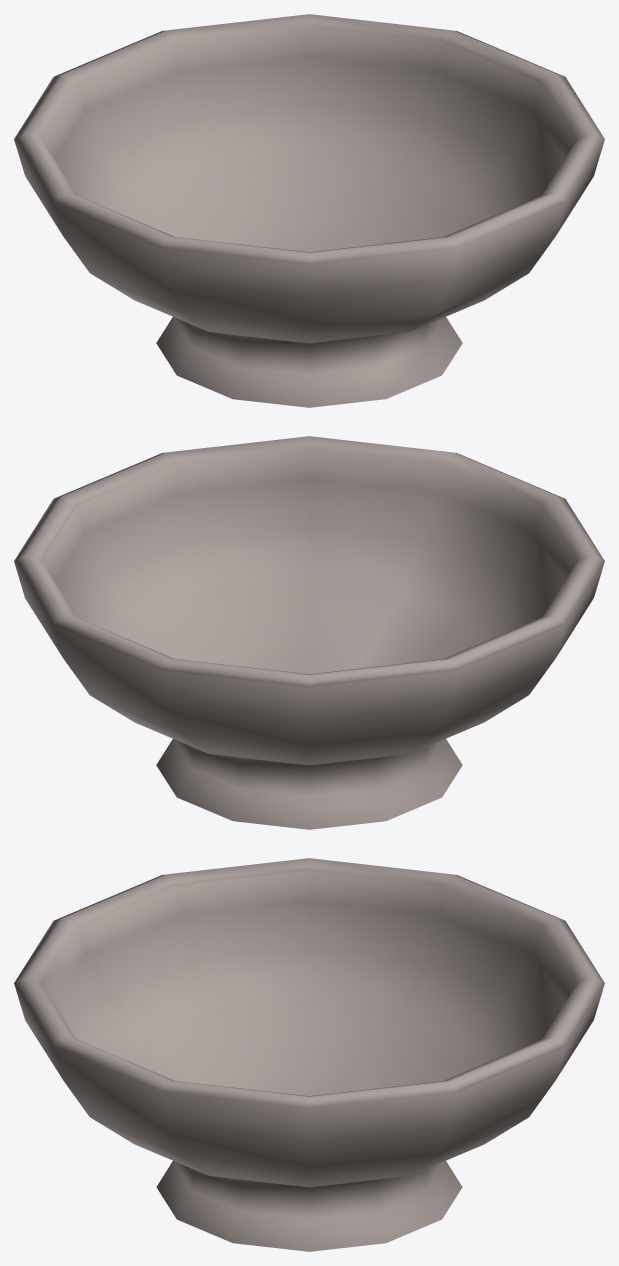
Rendered from frl_apartment_bowl_07.glb.
The picture shows the model from 3 angles, top to bottom: view 1: azimuth 30°, elevation 25°; view 2: azimuth 150°, elevation 25°; view 3: azimuth 270°, elevation 25°; orthographic projection.
Visible parts, largest first — view 1: frl_apartment_bowl_07; view 2: frl_apartment_bowl_07; view 3: frl_apartment_bowl_07.
Part boxes in pixels (<box>): frl_apartment_bowl_07: <box>14,14,604,407</box>; frl_apartment_bowl_07: <box>14,436,604,829</box>; frl_apartment_bowl_07: <box>14,858,604,1251</box>.
Size of the model in its own units: 0.3293 by 0.1286 by 0.3292.
Materials: 1 (1 with a texture image).
